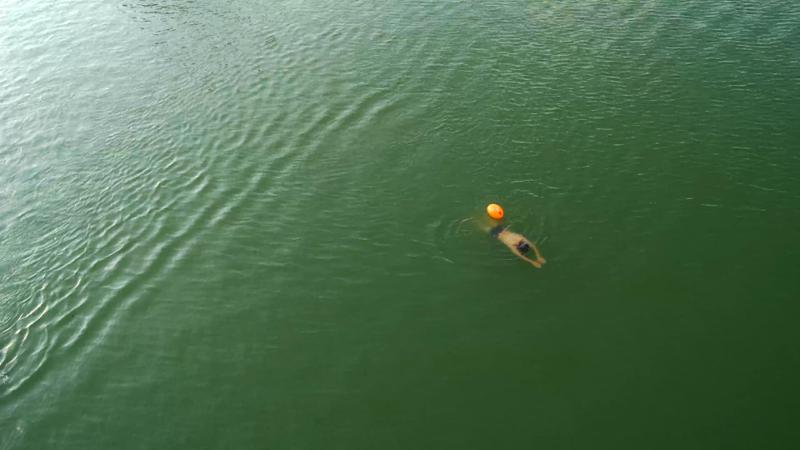swimmers: (470, 213, 547, 271)
